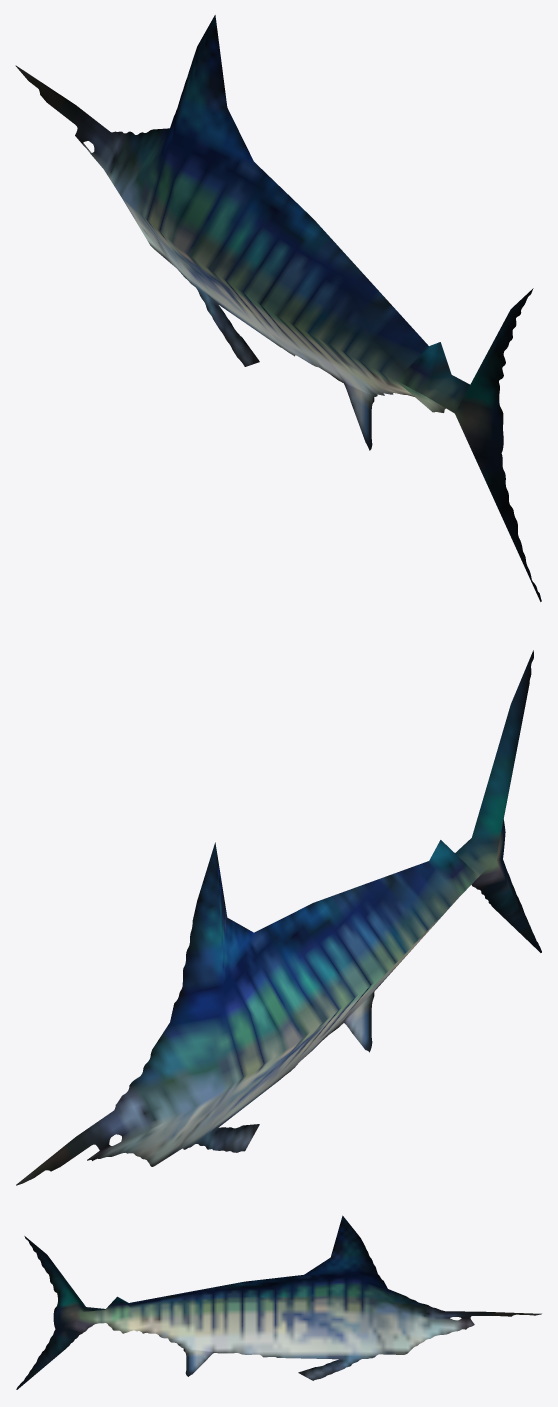
Rendered from INST_LT_BMARLIN.fbx.
The picture shows the model from 3 angles, top to bottom: view 1: azimuth 30°, elevation 25°; view 2: azimuth 150°, elevation 25°; view 3: azimuth 270°, elevation 25°; orthographic projection. The views are drawn at different scales.
Visible parts, largest first — view 1: INST_LT_BMARLIN; view 2: INST_LT_BMARLIN; view 3: INST_LT_BMARLIN.
Part boxes in pixels (x1,y1,x2,y2): INST_LT_BMARLIN: (15, 15, 541, 601); INST_LT_BMARLIN: (16, 650, 541, 1185); INST_LT_BMARLIN: (16, 1215, 541, 1389).
Size of the model in its own units: 798 by 4635 by 12545.
Materials: 1 (1 with a texture image).
